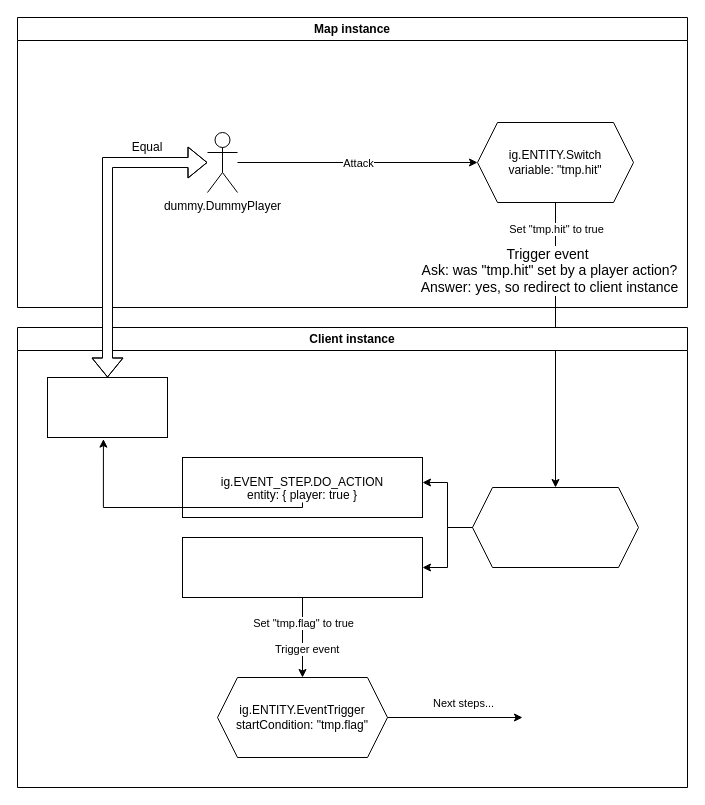
The diagram is 705 pixels wide and 805 high, and some of its shapes have lost their labels. Here are the shapes that lost their labels. From the top down, the centre of each, then its label:
point 107,407: ig.game.playerEntity
point 555,527: ig.ENTITY.EventTrigger startCondition: "tmp.hit"
point 302,567: ig.EVENT_STEP.CHANGE_VAR_BOOL varName: "tmp.flag", value: true
